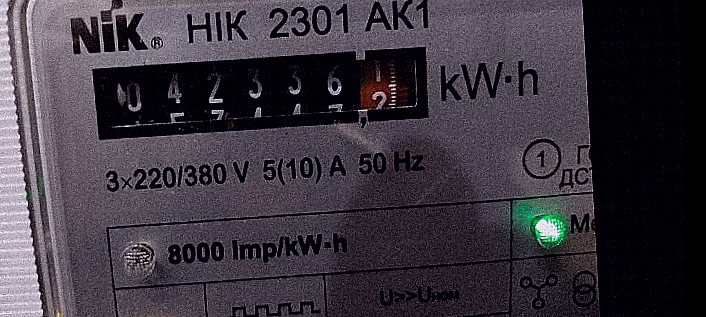0: (122, 77, 144, 114)
1: (369, 55, 384, 85)
2: (203, 69, 225, 106), (368, 89, 388, 111)
3: (282, 60, 304, 98), (244, 63, 265, 102)
4: (163, 68, 184, 106)
6: (321, 61, 345, 97)
screen: (83, 36, 440, 149)
